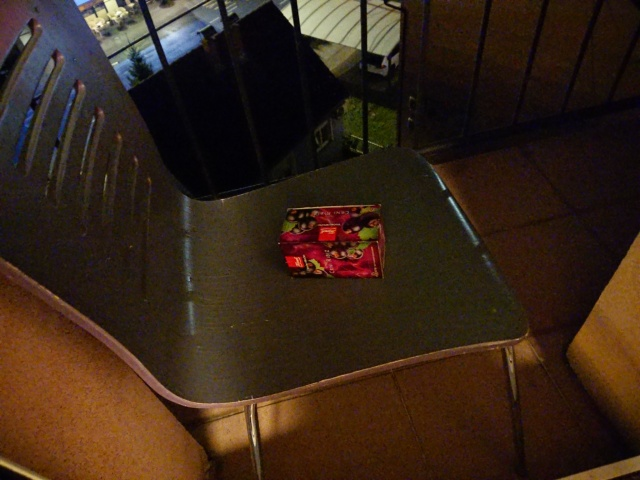Franck Black Currant Tea 60g: (274, 201, 389, 282)
